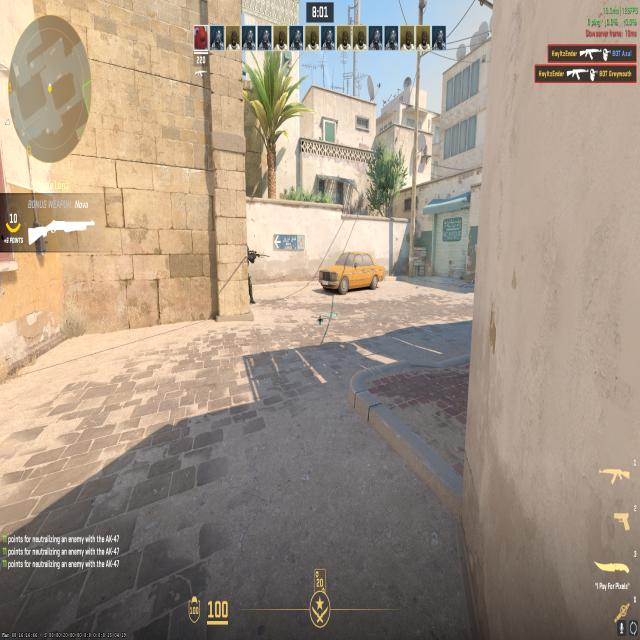ct: (246, 236, 256, 304)
